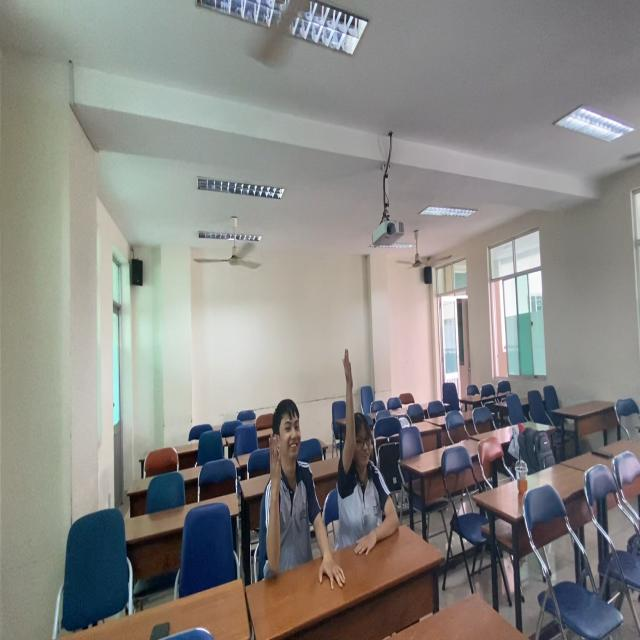raise_hand: (257, 392, 330, 584), (338, 346, 402, 562)
